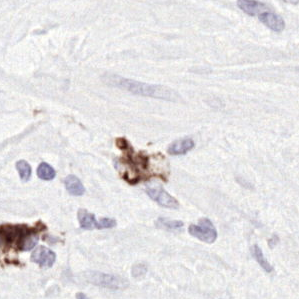Lymphocyte: (116, 137, 163, 182)
